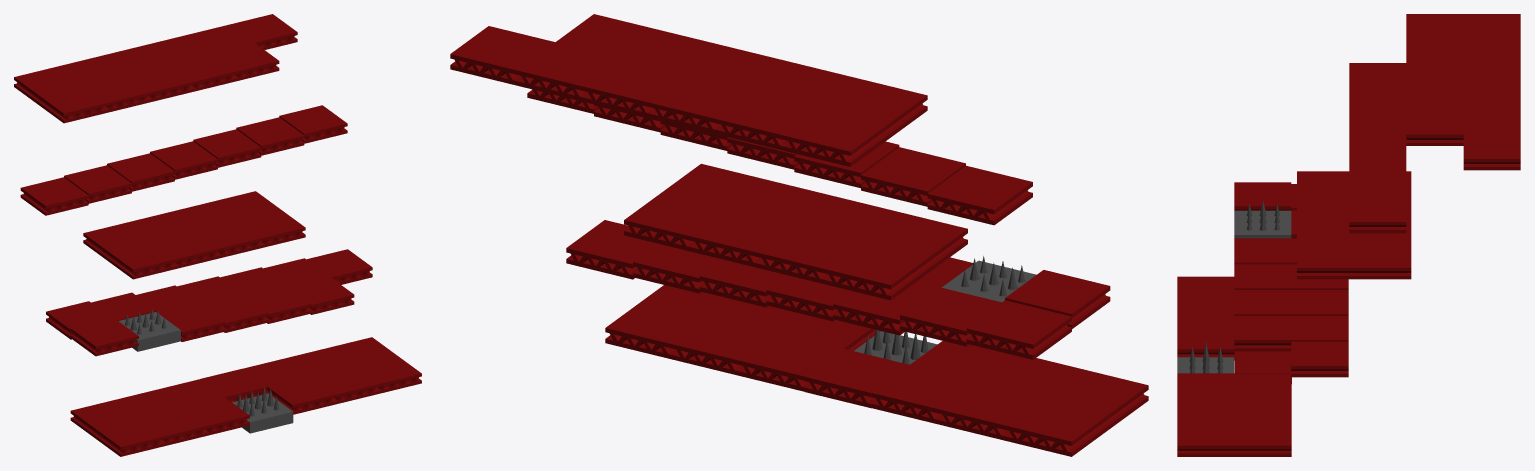
File: ThornTest.fbx
3 renders of one model, left to right at view 1: azimuth 30°, elevation 25°; view 2: azimuth 150°, elevation 25°; view 3: azimuth 270°, elevation 25°, orthographic. The views are drawn at different scales.
Visible parts, largest first — view 1: FloorBlock.019, FloorBlock.015, FloorBlock.008, FloorBlock.001, FloorBlock.017, FloorBlock.016, FloorBlock.014, FloorBlock.018, FloorBlock.020, FloorBlock.007, ThornBase.003, ThornBase (+3 smaller); view 2: FloorBlock.015, FloorBlock.016, FloorBlock.008, FloorBlock.001, FloorBlock.017, FloorBlock.019, FloorBlock.018, FloorBlock.020, FloorBlock.007, FloorBlock.021, ThornBase.003, Thorn (+3 smaller); view 3: FloorBlock.019, FloorBlock.001, FloorBlock.016, FloorBlock.015, FloorBlock.017, FloorBlock.014, FloorBlock.018, FloorBlock.008, FloorBlock.020, ThornBase.003, FloorBlock.007, ThornBase (+2 smaller).
Boxes of the visible parts, x1,y1,x2,y2 form: FloorBlock.019: (20,105,347,215); FloorBlock.015: (83,191,305,279); FloorBlock.008: (70,379,249,456); FloorBlock.001: (243,337,421,414); FloorBlock.017: (39,43,279,123); FloorBlock.016: (14,14,297,104); FloorBlock.014: (159,276,354,341); FloorBlock.018: (136,249,372,313); FloorBlock.020: (46,301,138,356); FloorBlock.007: (200,368,267,402); ThornBase.003: (118,312,180,351); ThornBase: (232,393,293,433); FloorBlock.015: (624,163,967,300); FloorBlock.016: (450,26,888,166); FloorBlock.008: (871,341,1148,456); FloorBlock.001: (605,285,880,391); FloorBlock.017: (556,14,927,138); FloorBlock.019: (527,89,1032,225); FloorBlock.018: (566,220,932,335); FloorBlock.020: (966,270,1110,359); FloorBlock.007: (805,349,909,408); FloorBlock.021: (900,287,1001,346); ThornBase.003: (942,260,1036,302); Thorn: (864,330,928,364); FloorBlock.019: (1349,63,1406,233); FloorBlock.001: (1177,373,1291,456); FloorBlock.016: (1463,14,1520,170); FloorBlock.015: (1297,171,1411,279); FloorBlock.017: (1406,14,1463,145); FloorBlock.014: (1234,238,1291,351); FloorBlock.018: (1291,238,1348,377); FloorBlock.008: (1177,276,1234,360); FloorBlock.020: (1234,182,1296,210); ThornBase.003: (1234,210,1291,238); FloorBlock.007: (1234,351,1291,383); ThornBase: (1177,357,1234,373).
Size of the model in its own units: 1400 by 1188 by 1202.
